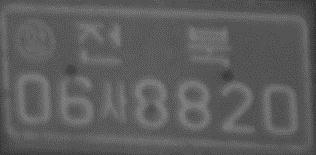0: (261, 82, 299, 137), (14, 72, 51, 124)
2: (218, 80, 256, 135)
6: (60, 74, 96, 128)
8: (175, 79, 211, 132), (134, 78, 169, 130)
사: (99, 79, 130, 123)
영: (13, 17, 56, 64)
전북_D: (76, 19, 232, 72)
